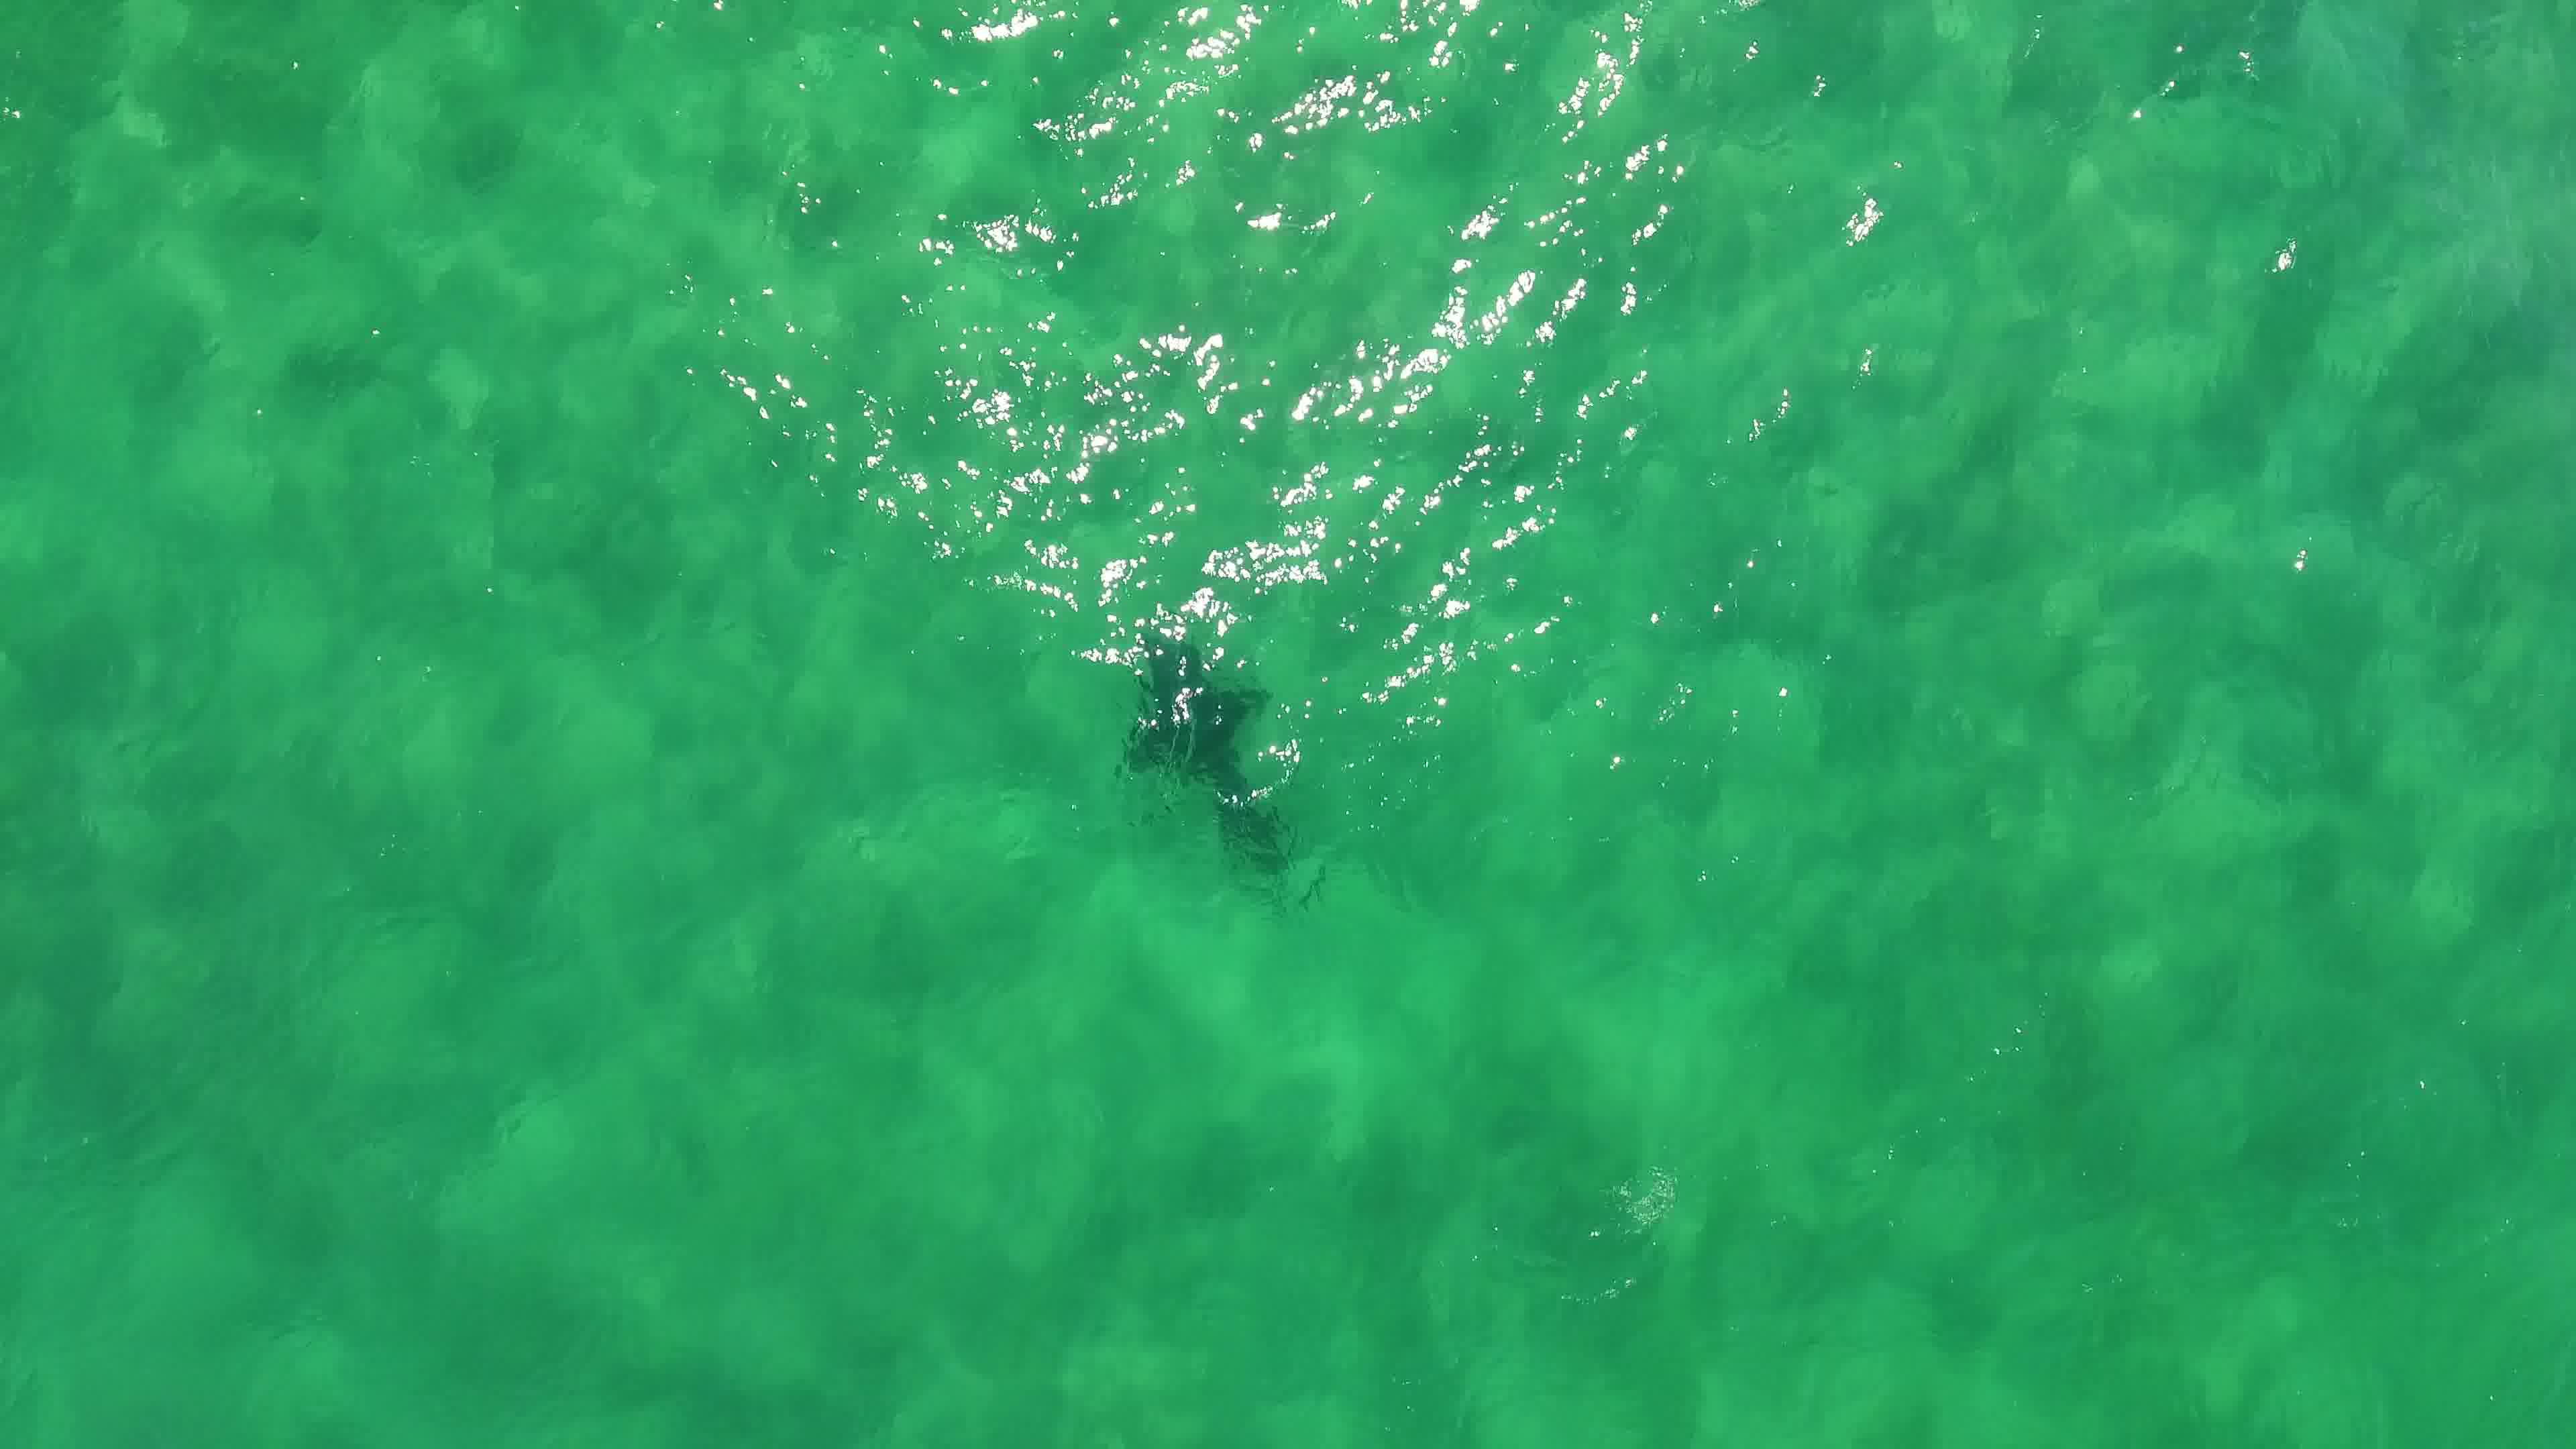shark: (1104, 623, 1302, 883)
